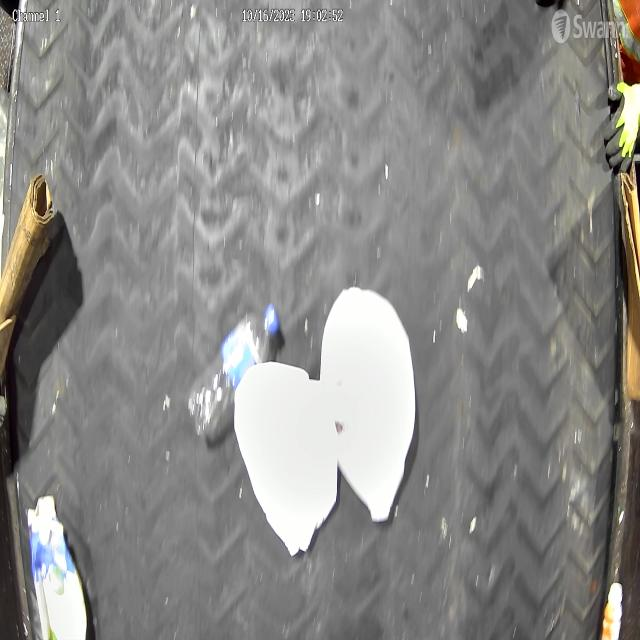milk_jug: (320, 286, 417, 524), (235, 360, 338, 556), (27, 492, 87, 640)
plastic_bottle: (188, 304, 282, 445)
